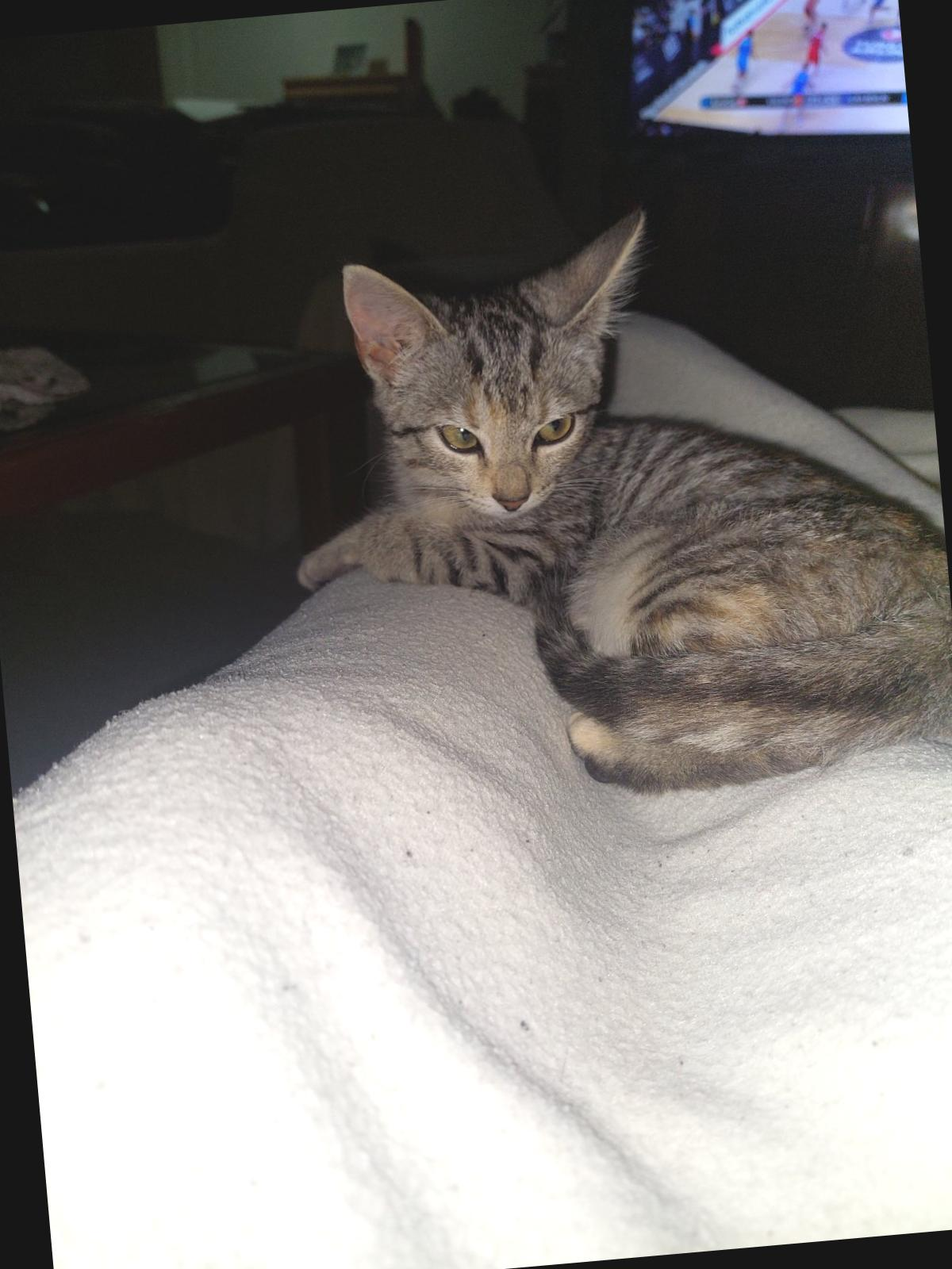macka: (263, 190, 952, 830)
